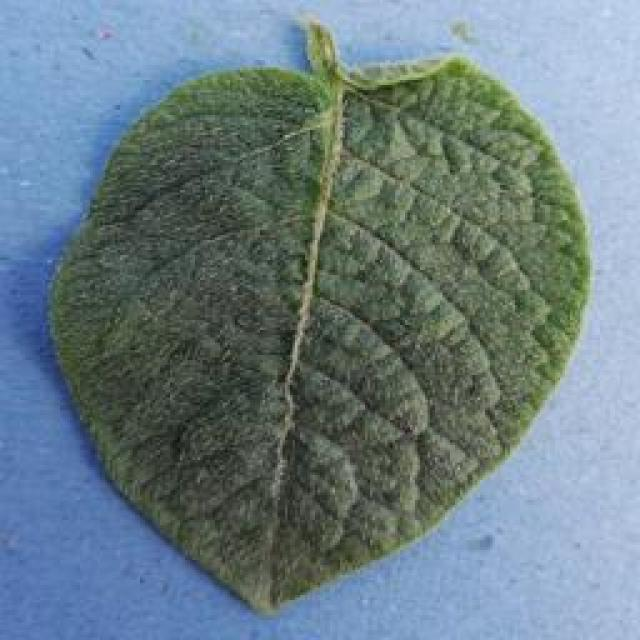Potato_Healthy: (49, 21, 590, 614)
